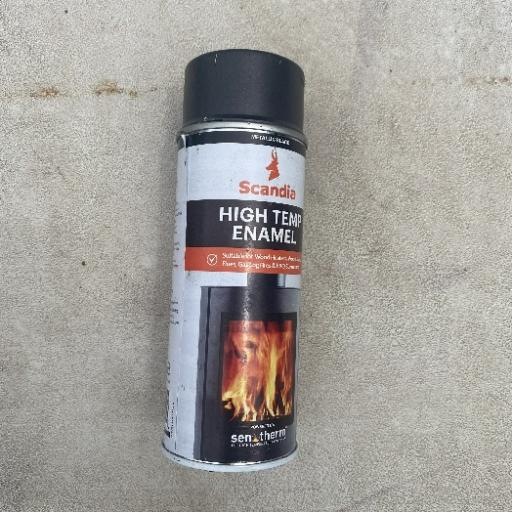Metal: (159, 46, 310, 473)
